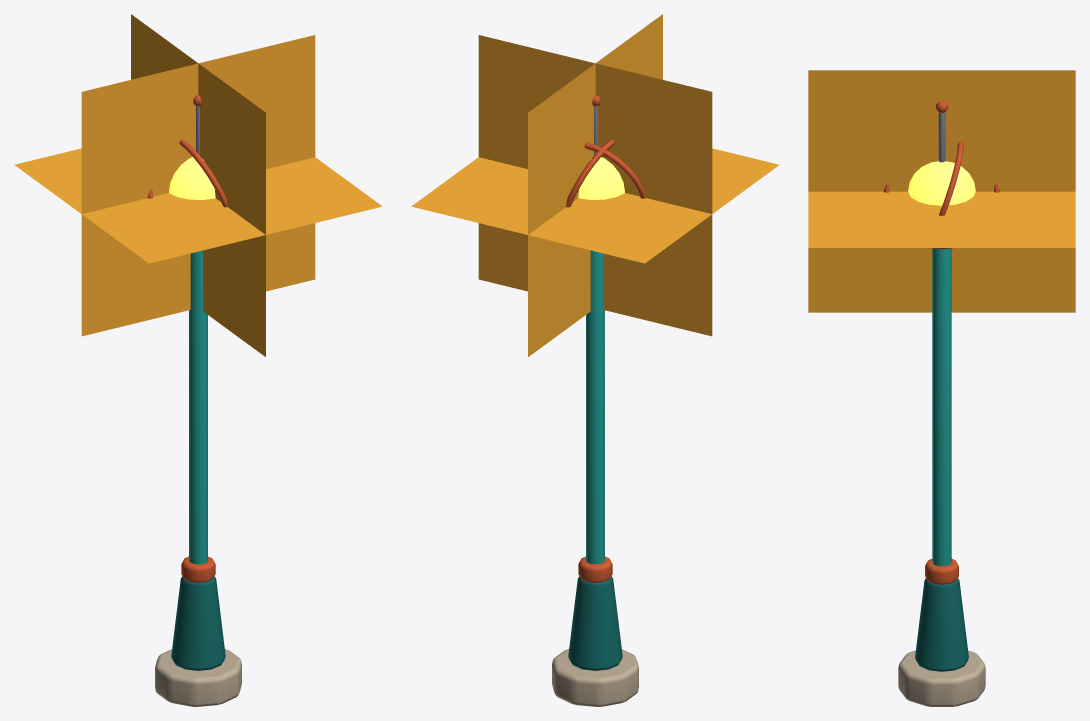
File: dune_lamp.glb
3 views of the same model, side by side, from view 1: azimuth 30°, elevation 25°; view 2: azimuth 150°, elevation 25°; view 3: azimuth 270°, elevation 25° (orthographic).
Visible parts, largest first — view 1: Lamp; view 2: Lamp; view 3: Lamp.
Part boxes in pixels (box(x1,y1,x2,y2)): Lamp: box(14, 14, 382, 706); Lamp: box(411, 14, 779, 706); Lamp: box(808, 70, 1075, 706).
Size of the model in its own units: 2.52 by 6.46 by 2.52.
